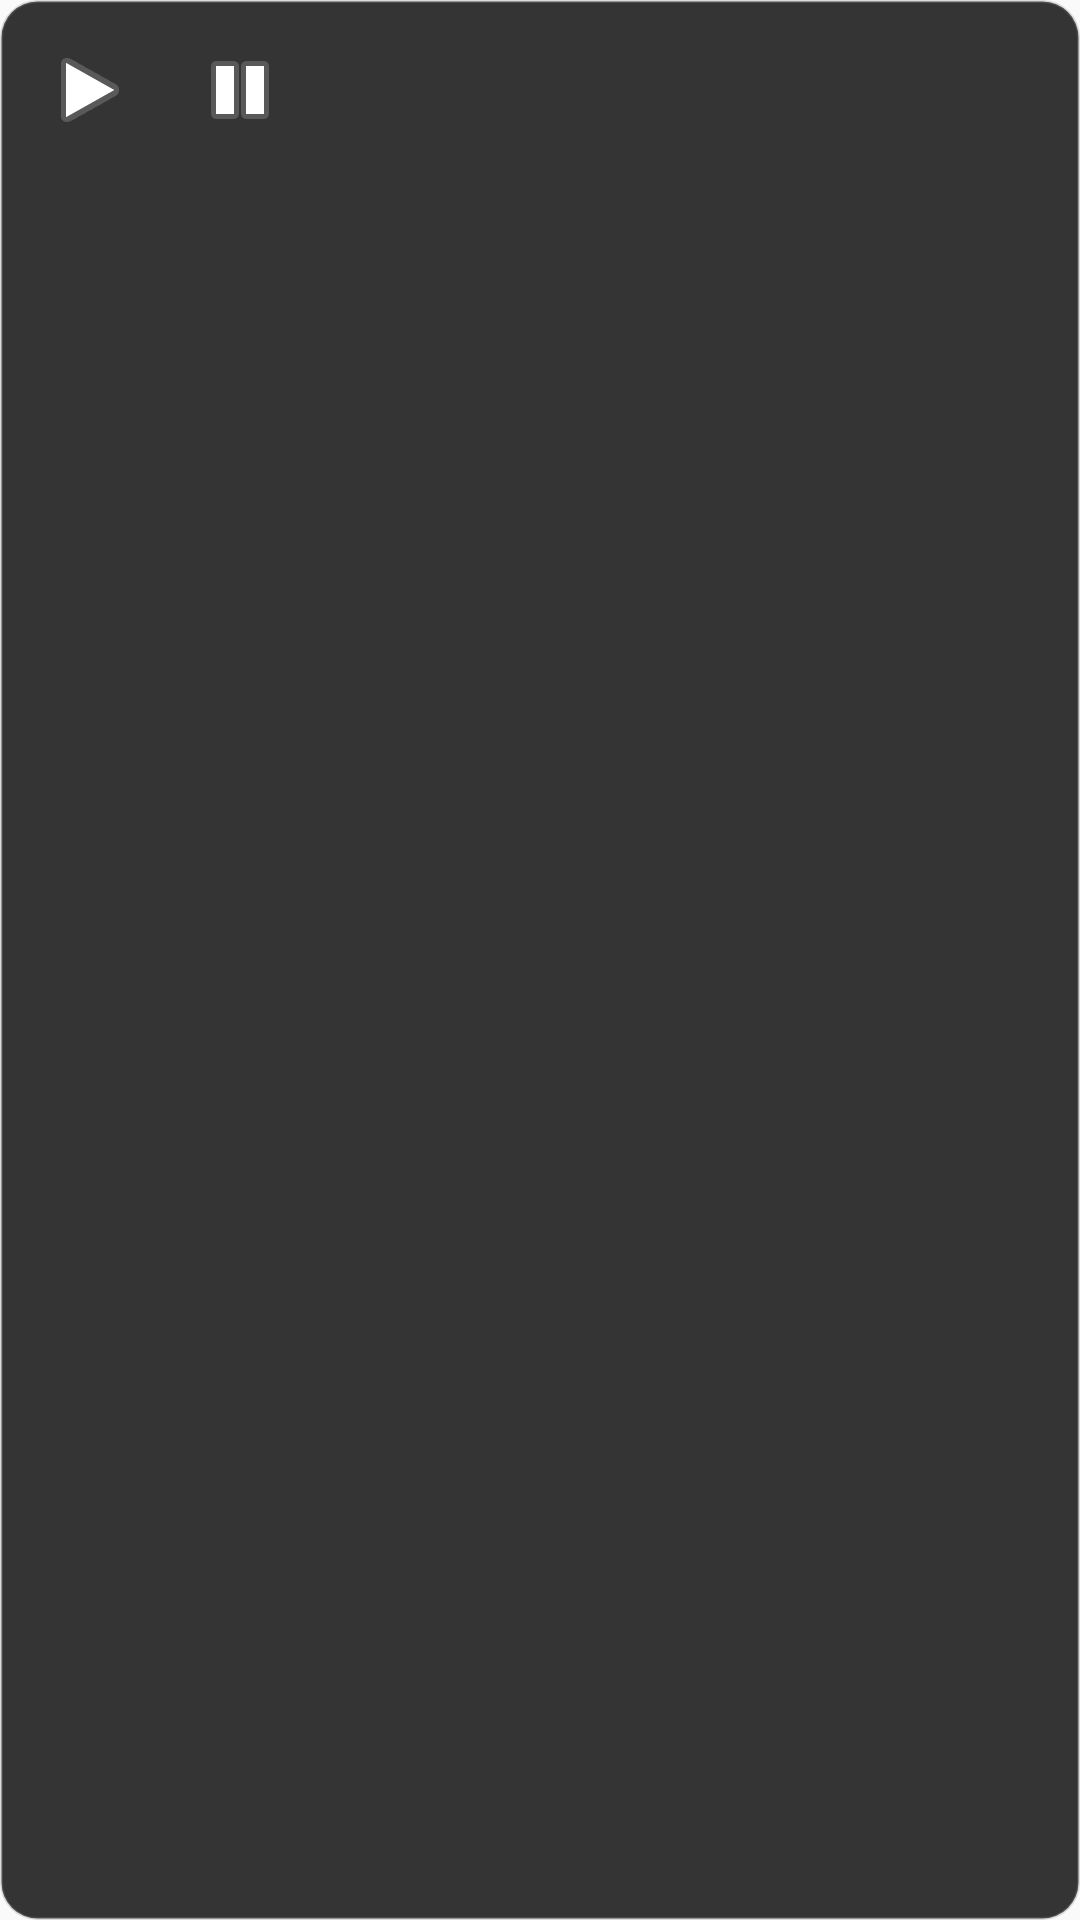

Named icons in this screenshot (1080px x 1920px) and their centers, point (x, y):
开始: point (90, 90)
